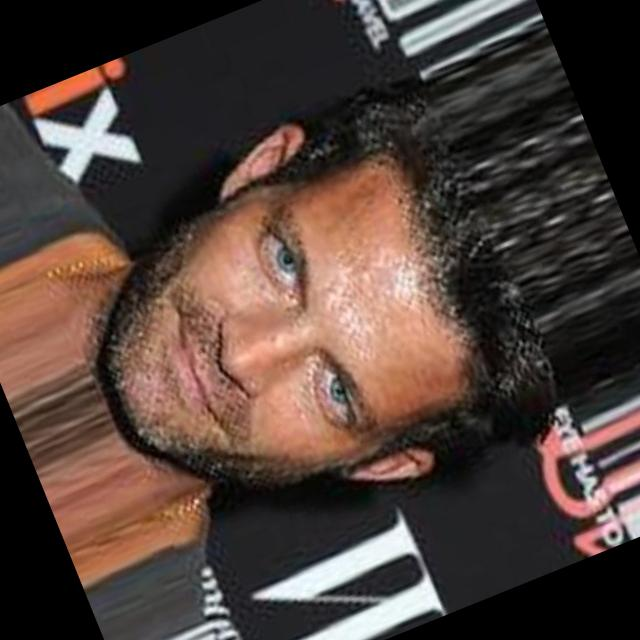bareface: (54, 91, 560, 559)
